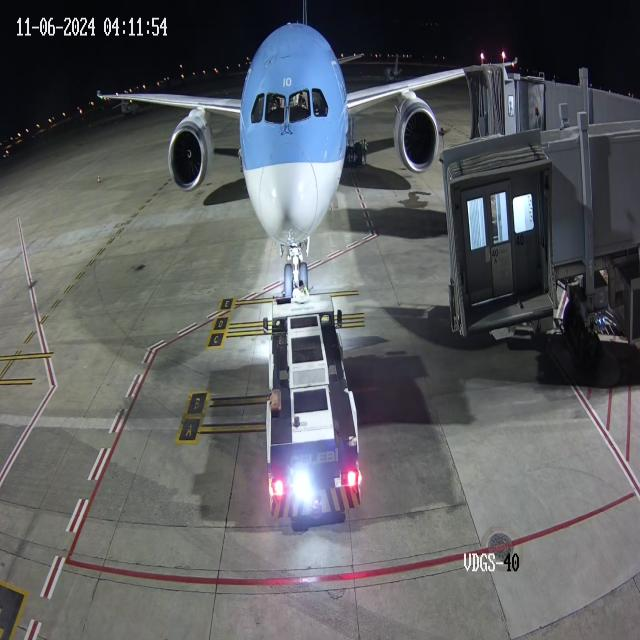bridge: (491, 56, 546, 150)
plane: (79, 8, 439, 299)
window: (248, 82, 336, 135)
